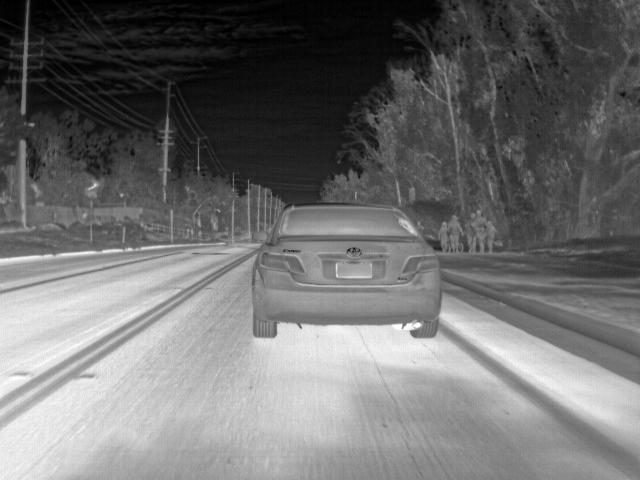car: (250, 200, 442, 340)
person: (467, 211, 477, 253), (439, 219, 451, 253), (475, 209, 484, 254), (450, 213, 460, 250), (485, 220, 494, 255), (416, 220, 422, 232)
